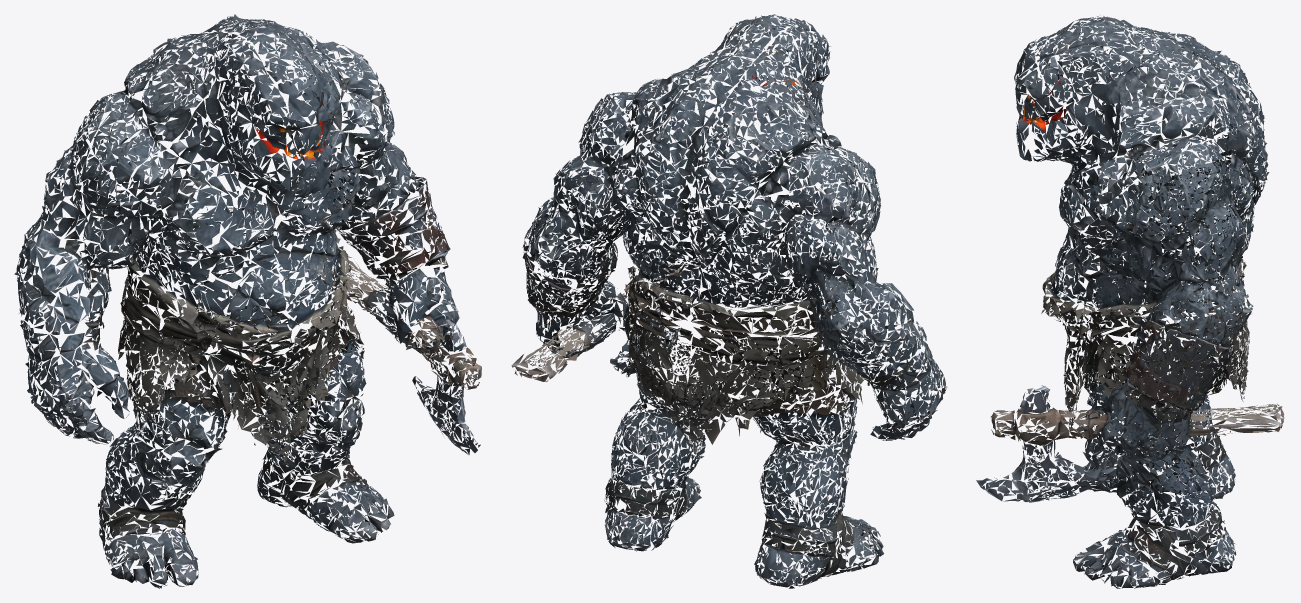
The model's file is grunt_stone.glb.
3 views of the same model, side by side, from view 1: azimuth 30°, elevation 25°; view 2: azimuth 150°, elevation 25°; view 3: azimuth 270°, elevation 25° (orthographic). The views are drawn at different scales.
Visible parts, largest first — view 1: tripo_node_036303fe-374b-426b-bbb1-e8cdc167584a; view 2: tripo_node_036303fe-374b-426b-bbb1-e8cdc167584a; view 3: tripo_node_036303fe-374b-426b-bbb1-e8cdc167584a.
Part boxes in pixels (x1,y1,x2,y2): tripo_node_036303fe-374b-426b-bbb1-e8cdc167584a: (14,14,481,588); tripo_node_036303fe-374b-426b-bbb1-e8cdc167584a: (511,14,947,588); tripo_node_036303fe-374b-426b-bbb1-e8cdc167584a: (976,16,1284,588).
Size of the model in its own units: 1.69 by 2.05 by 1.13.
1 material, 1 textured.
